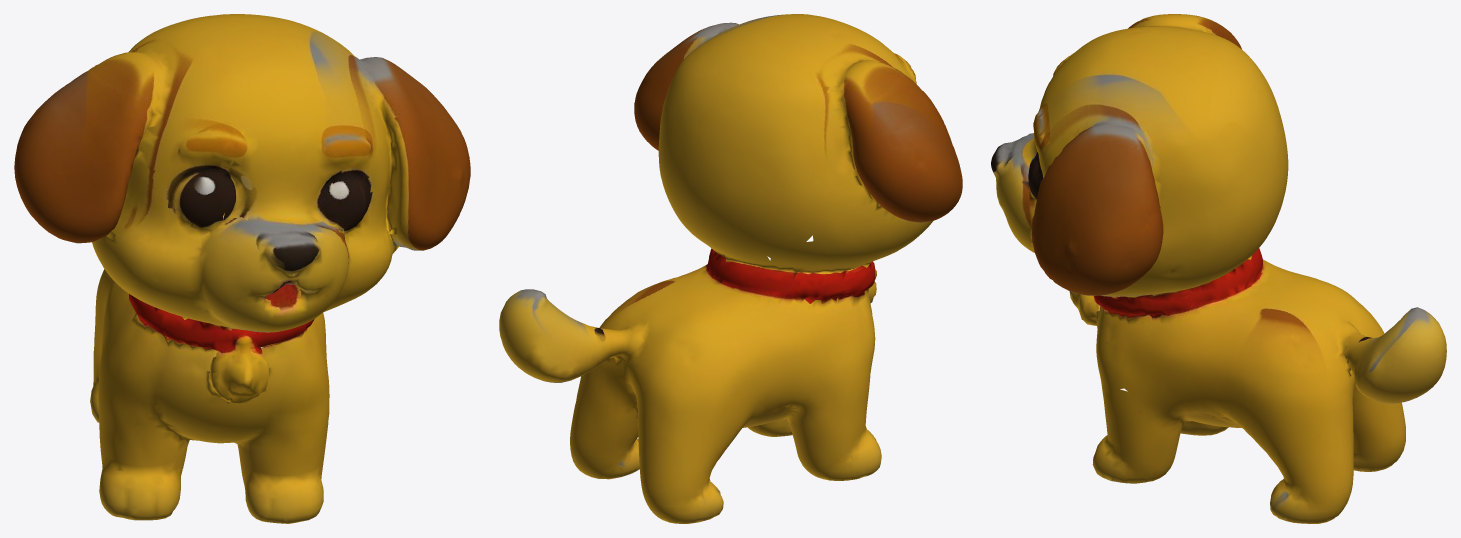
The model's file is pup.glb.
3 views of the same model, side by side, from view 1: azimuth 30°, elevation 25°; view 2: azimuth 150°, elevation 25°; view 3: azimuth 270°, elevation 25° (orthographic). The views are drawn at different scales.
Parts seen in each view (by area): view 1: pup; view 2: pup; view 3: pup.
Boxes of the visible parts, x1=… form: pup: x1=14, y1=14, x2=470, y2=523; pup: x1=499, y1=14, x2=962, y2=523; pup: x1=991, y1=14, x2=1446, y2=523.
Size of the model in its own units: 0.8777 by 0.9998 by 0.9902.
1 material, 1 textured.
